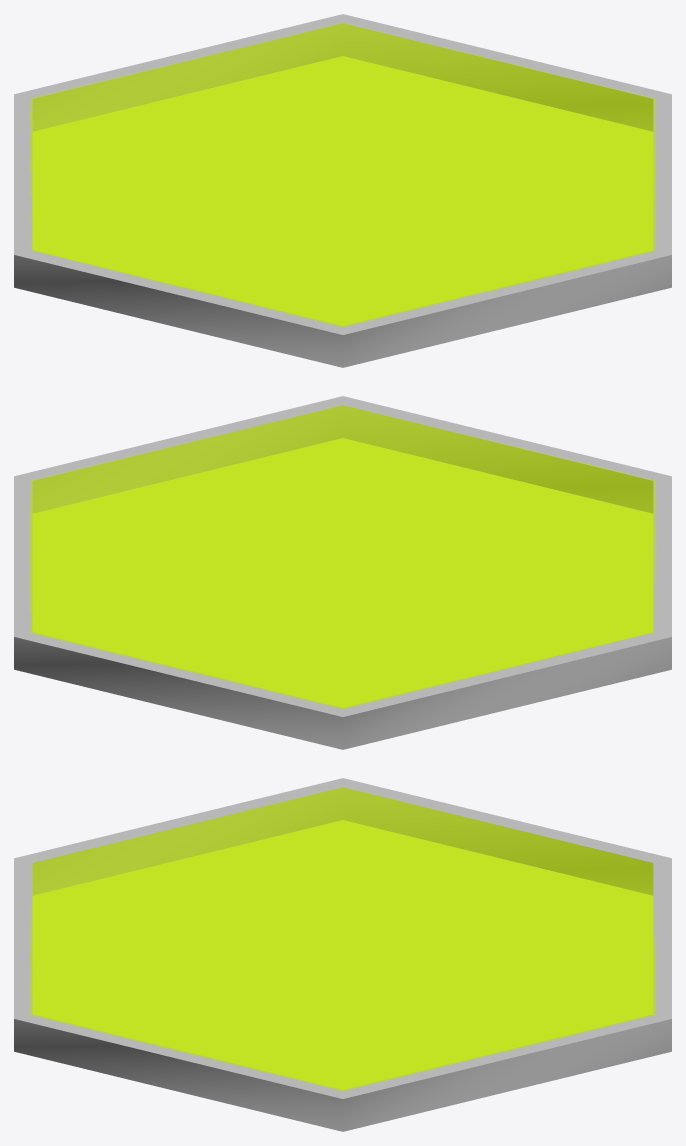
Rendered from HexUnit(yellow green).fbx.
3 renders of one model, top to bottom at view 1: azimuth 30°, elevation 25°; view 2: azimuth 150°, elevation 25°; view 3: azimuth 270°, elevation 25°, orthographic.
Visible parts, largest first — view 1: 封顶_2, 封顶_1, 管道; view 2: 封顶_2, 封顶_1, 管道; view 3: 封顶_2, 封顶_1, 管道.
Part boxes in pixels (left/top/right/bottom): 封顶_2: left=29, top=22, right=656, bottom=327; 封顶_1: left=33, top=56, right=652, bottom=325; 管道: left=14, top=14, right=671, bottom=367; 封顶_2: left=29, top=404, right=656, bottom=709; 封顶_1: left=33, top=438, right=652, bottom=707; 管道: left=14, top=396, right=671, bottom=749; 封顶_2: left=29, top=786, right=656, bottom=1091; 封顶_1: left=33, top=820, right=652, bottom=1089; 管道: left=14, top=778, right=671, bottom=1131.
Bounding box in the file's own units: 2.1 × 0.1 × 1.82.
